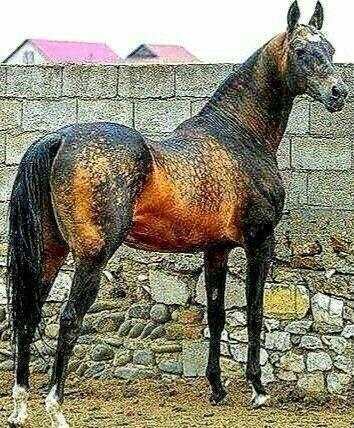horse: (5, 0, 348, 427)
